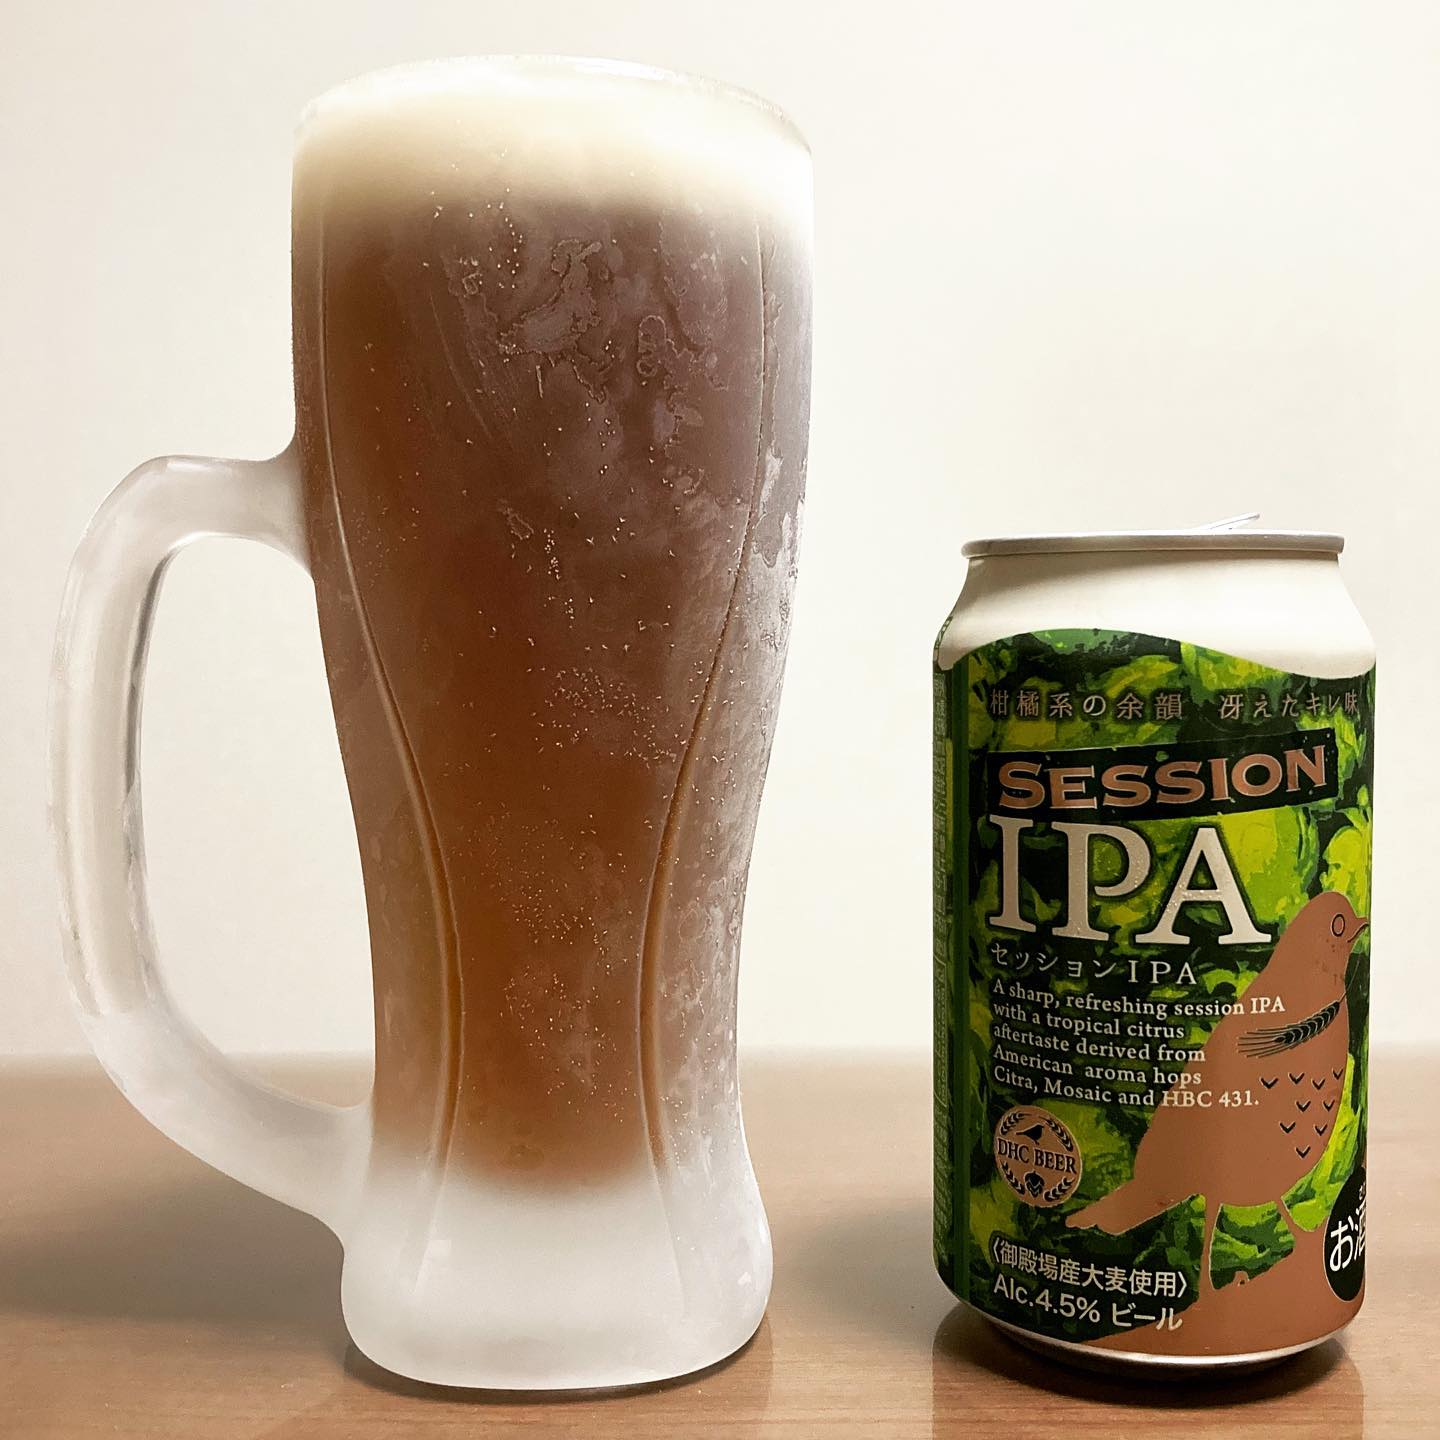alcohol: (284, 45, 827, 1403), (920, 502, 1383, 1394)
